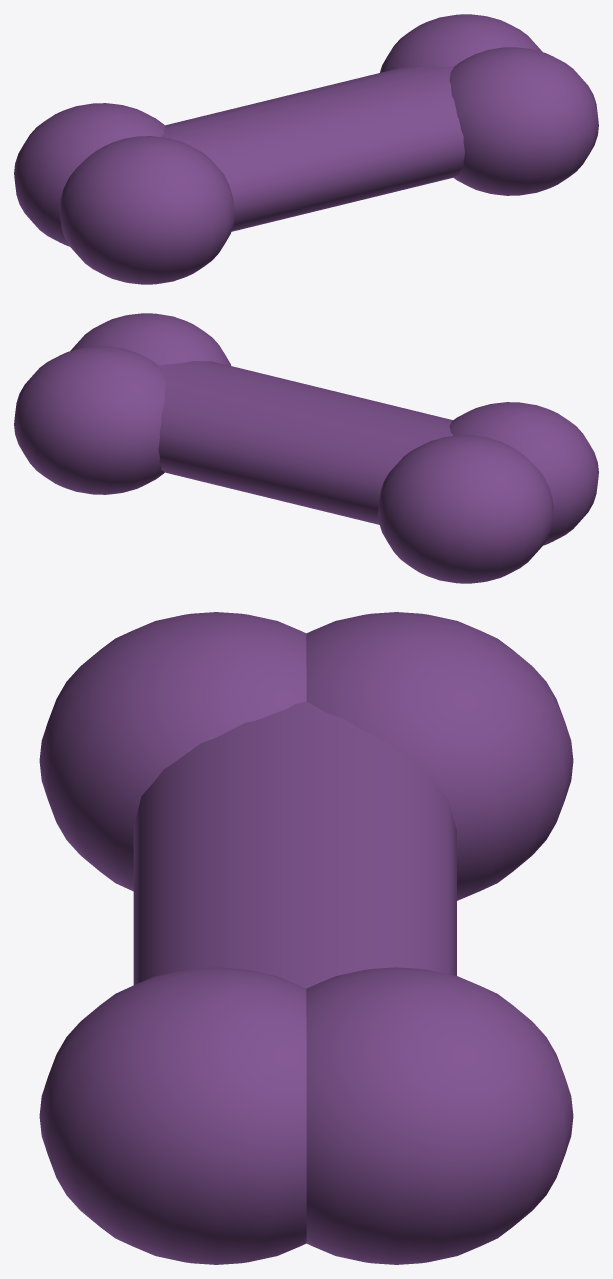
The model's file is dogtoy2.fbx.
The picture shows the model from 3 angles, top to bottom: view 1: azimuth 30°, elevation 25°; view 2: azimuth 150°, elevation 25°; view 3: azimuth 270°, elevation 25°; orthographic projection. The views are drawn at different scales.
Visible parts, largest first — view 1: pCylinder2; view 2: pCylinder2; view 3: pCylinder2.
Part boxes in pixels (box(x1,y1,x2,y2)): pCylinder2: box(14, 14, 598, 284); pCylinder2: box(14, 313, 598, 583); pCylinder2: box(39, 612, 573, 1264).
Bounding box in the file's own units: 5.33 × 1.27 × 2.38.
